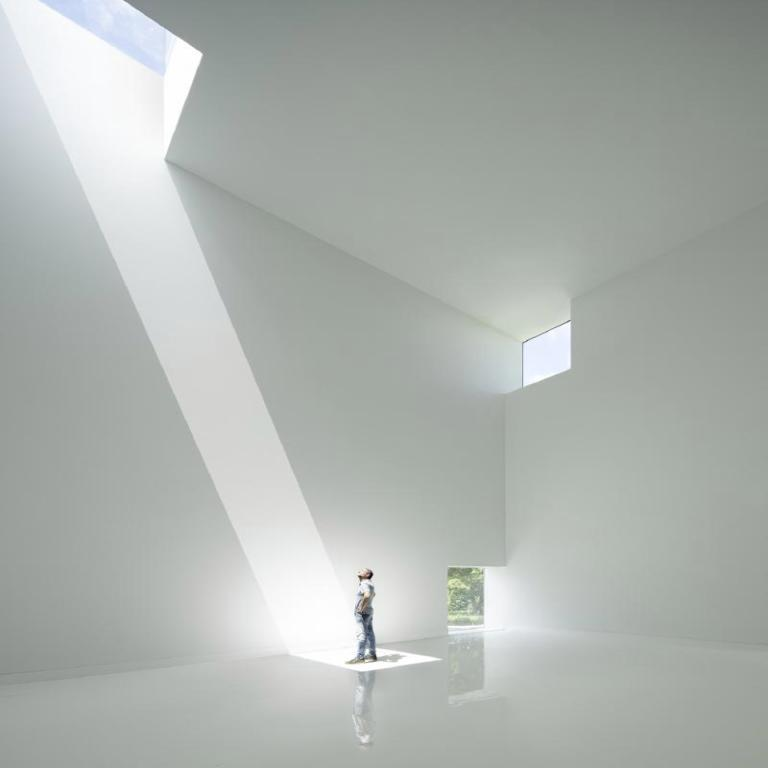white-walls: (298, 20, 749, 603)
